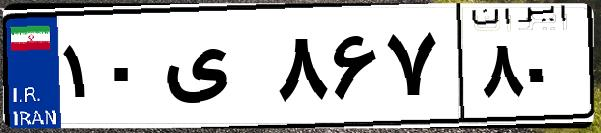0: (525, 38, 570, 115), (110, 28, 158, 98)
1: (57, 26, 110, 100)
6: (330, 28, 385, 110)
7: (385, 28, 445, 110)
8: (270, 28, 330, 110), (475, 38, 525, 113)
ی: (158, 20, 270, 120)
